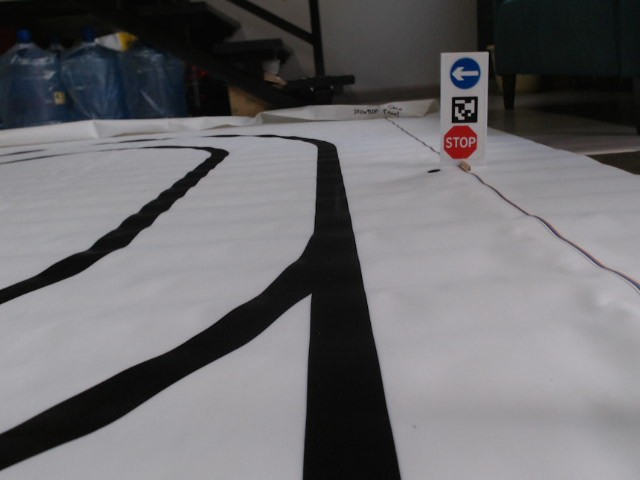Stop: (444, 125, 478, 160)
